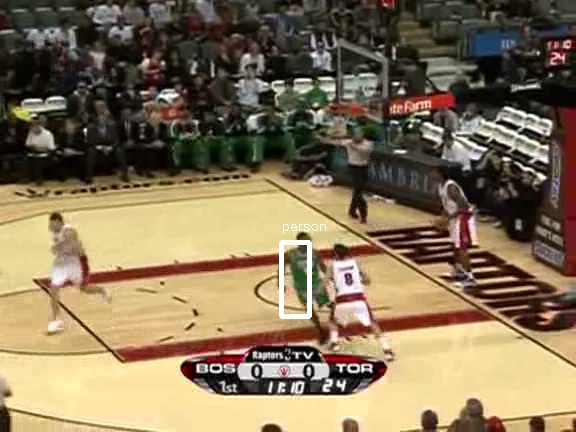person: (291, 237, 325, 318), (290, 237, 324, 318), (292, 237, 326, 318), (291, 236, 325, 317), (291, 238, 325, 319)
target_negative: (9, 42, 438, 374), (42, 159, 135, 250), (7, 398, 204, 432), (42, 370, 527, 375), (413, 305, 420, 373), (556, 139, 562, 159)
